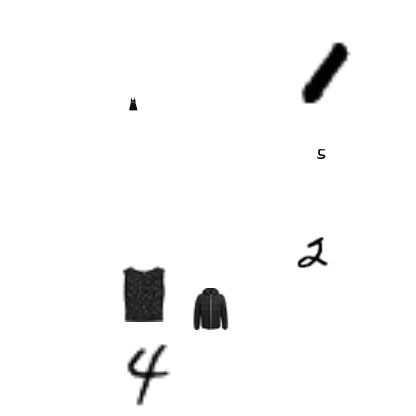0: (55, 50, 111, 106)
4: (96, 308, 152, 364)
6: (111, 375, 125, 389)
7: (320, 302, 362, 344)
8: (224, 230, 280, 286), (47, 10, 61, 24)
Bag: (292, 95, 334, 137)
Coat: (249, 57, 291, 99)
